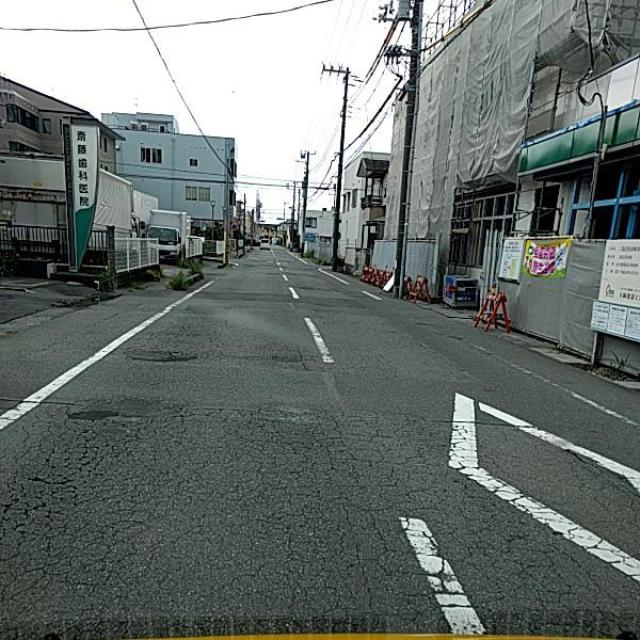Crack: (29, 367, 626, 640)
